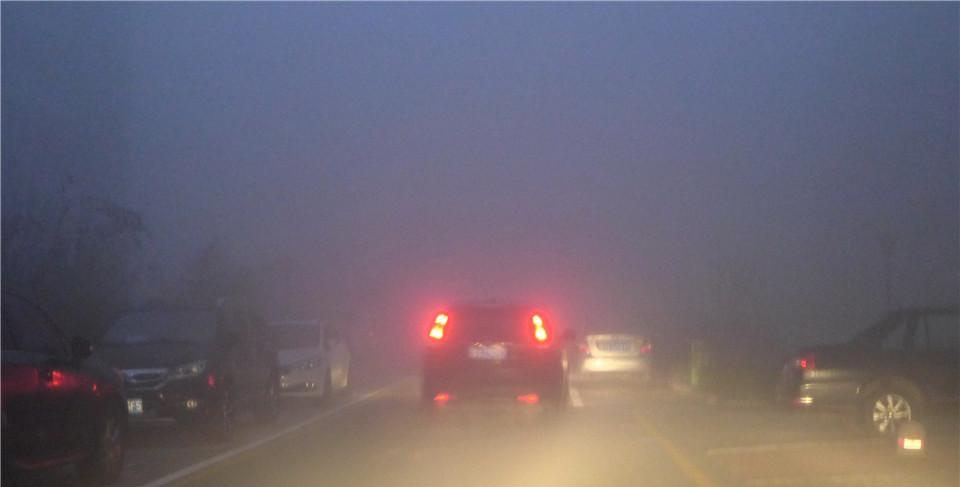car: (78, 291, 281, 444), (1, 285, 129, 486), (780, 306, 960, 441), (418, 302, 575, 421), (241, 317, 353, 409), (573, 305, 655, 388)
